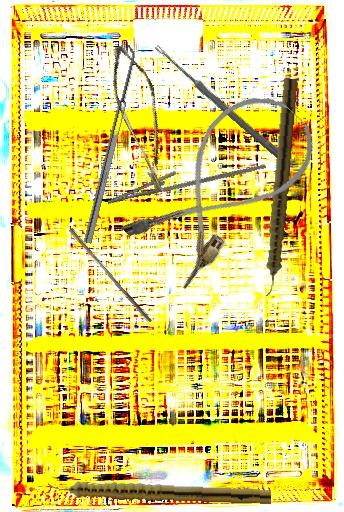Cannula: (115, 76, 330, 294)
Handpiece: (260, 77, 299, 298), (47, 477, 272, 505)
Micro Scissor: (88, 41, 198, 196)
Needle Holder: (102, 133, 267, 224)
Pusher: (65, 227, 156, 324)
Spatula Surgical: (75, 44, 141, 244)
Surgical Spoon: (152, 43, 294, 168)
